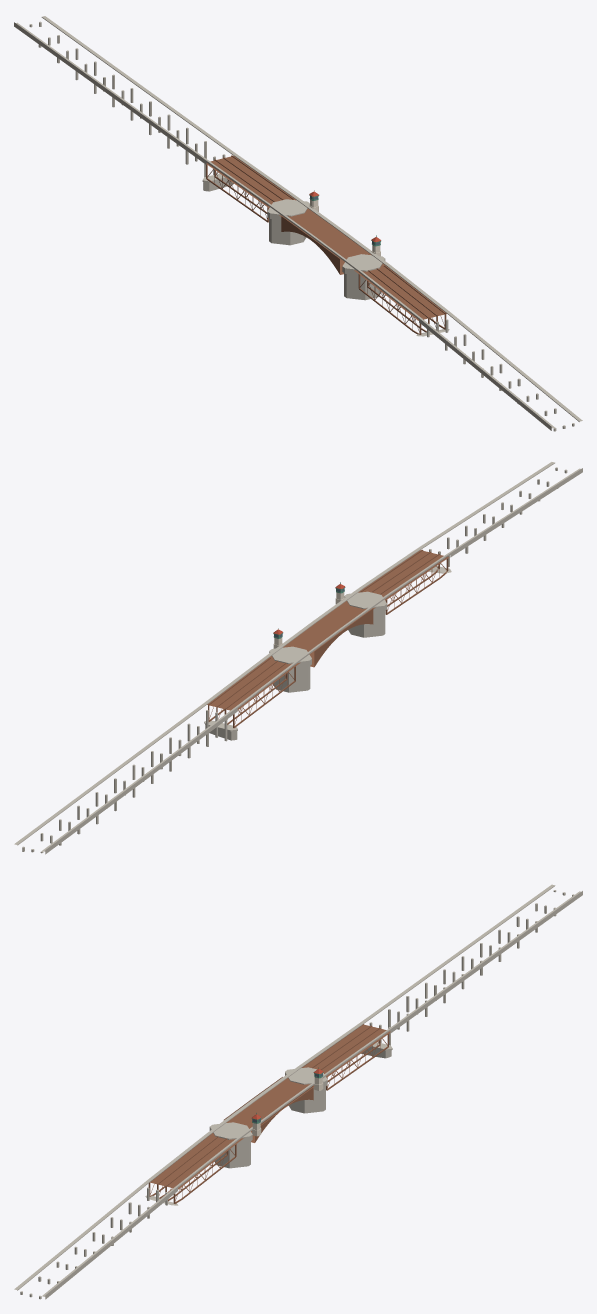
Rendered from pdx-burnside-bridge.glb.
3 views of the same model, one above another, from view 1: azimuth 30°, elevation 25°; view 2: azimuth 150°, elevation 25°; view 3: azimuth 330°, elevation 25° (orthographic).
Parts seen in each view (by area): view 1: Burnside Bridge; view 2: Burnside Bridge; view 3: Burnside Bridge.
Part boxes in pixels (x1=…): Burnside Bridge: x1=14, y1=16, x2=582, y2=431; Burnside Bridge: x1=14, y1=462, x2=582, y2=854; Burnside Bridge: x1=14, y1=884, x2=582, y2=1299.
Bounding box in the file's own units: 32.2 × 34.7 × 705.
